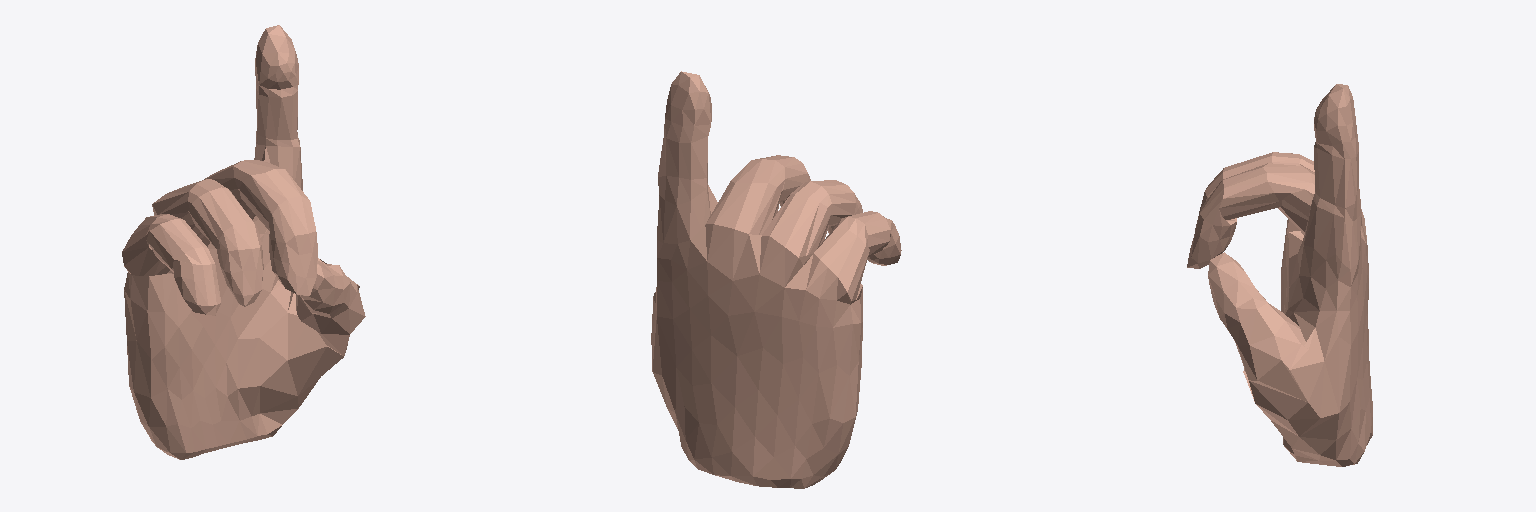
The model's file is MAO_D.obj.
The picture shows the model from 3 angles: view 1: azimuth 30°, elevation 25°; view 2: azimuth 150°, elevation 25°; view 3: azimuth 270°, elevation 25°; orthographic projection.
Parts seen in each view (by area): view 1: mao_dir:mao_dir; view 2: mao_dir:mao_dir; view 3: mao_dir:mao_dir.
Boxes of the visible parts, x1=… form: mao_dir:mao_dir: x1=122, y1=25, x2=365, y2=459; mao_dir:mao_dir: x1=651, y1=71, x2=901, y2=488; mao_dir:mao_dir: x1=1187, y1=84, x2=1372, y2=466.
Bounding box in the file's own units: 134 × 227 × 98.8.